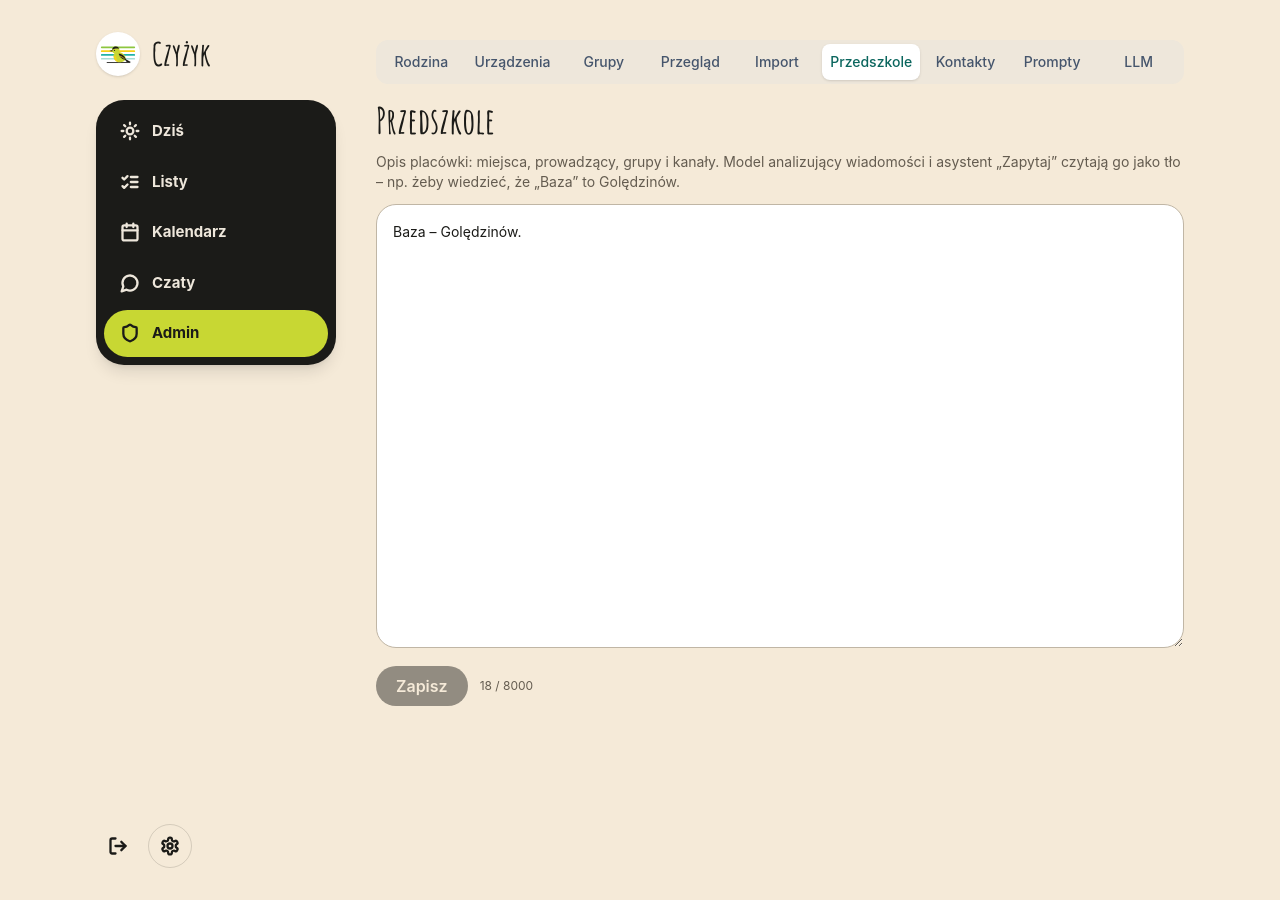
Test: Admin → Przedszkole › pokazuje opis i zapisuje zmiany przez RPC
expect the button "Zapisz" is disabled: met, box [376, 666, 468, 706]
expect the text "18 / 8000" is shown: met, box [480, 678, 533, 694]
In the text box named "Opis przedszkola": (780, 426) [376, 204, 1184, 648], type " Grupa Sokoły – 5 lat."
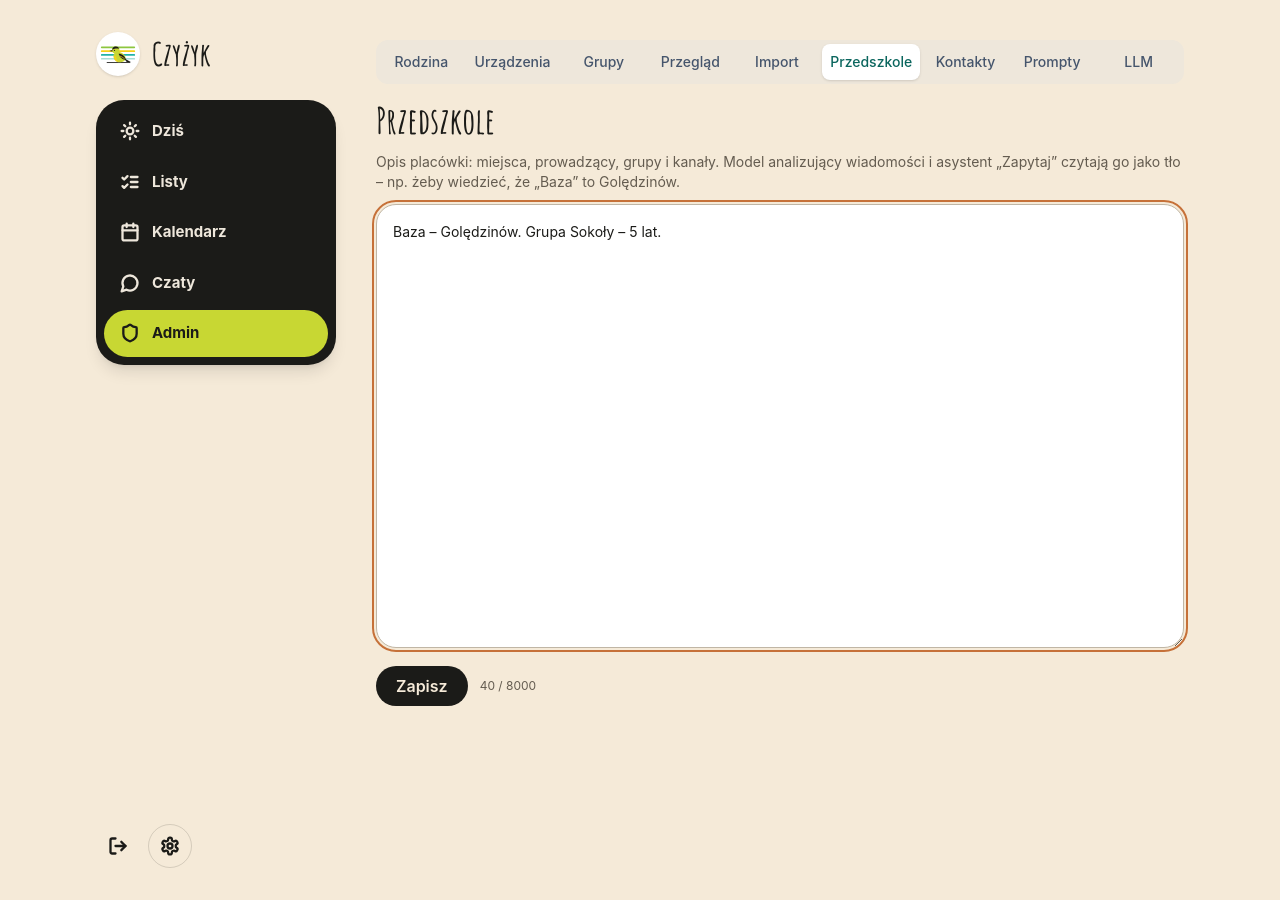
Click the button "Zapisz": (422, 686) [376, 666, 468, 706]
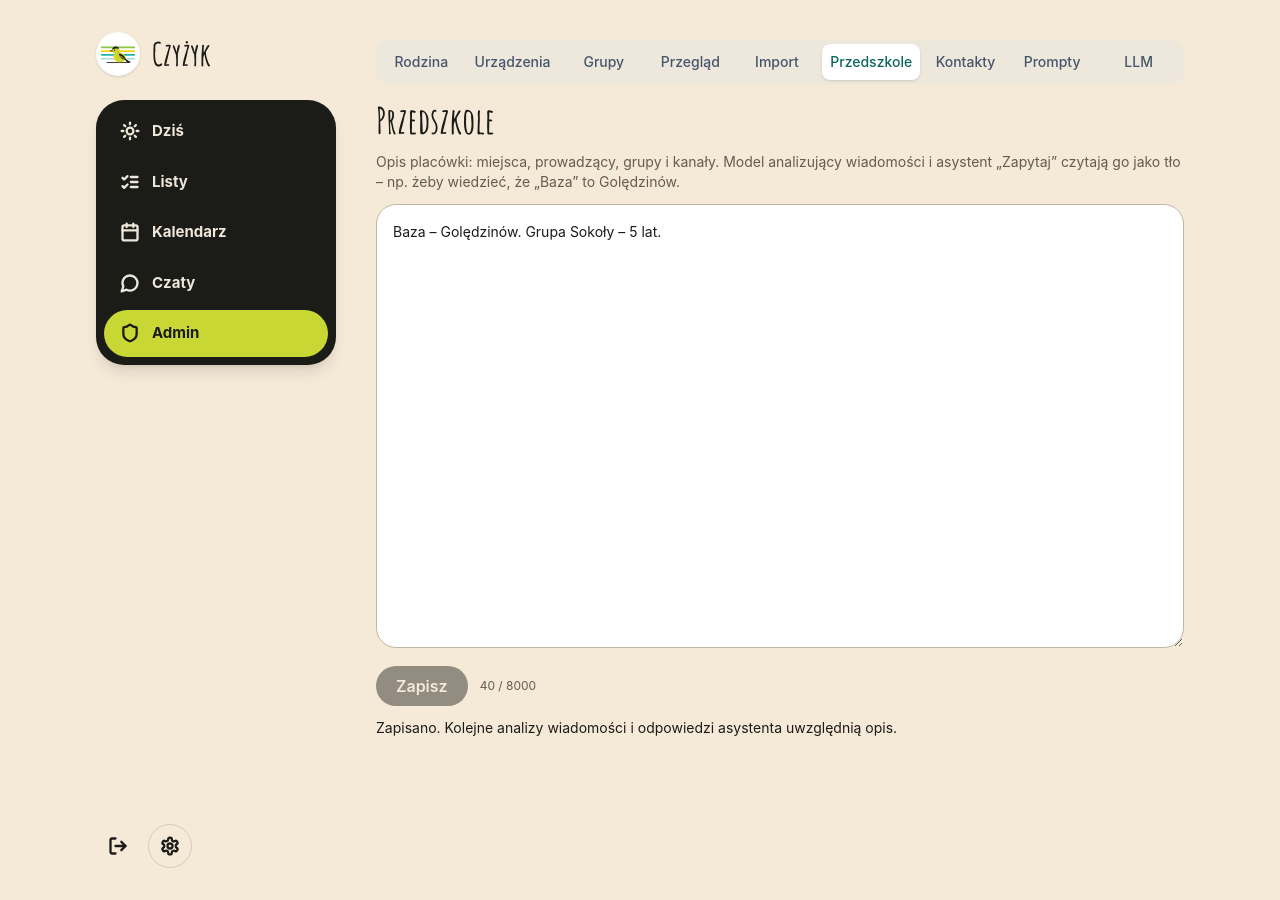
expect the message shows "Zapisano.": met, box [376, 718, 897, 736]
